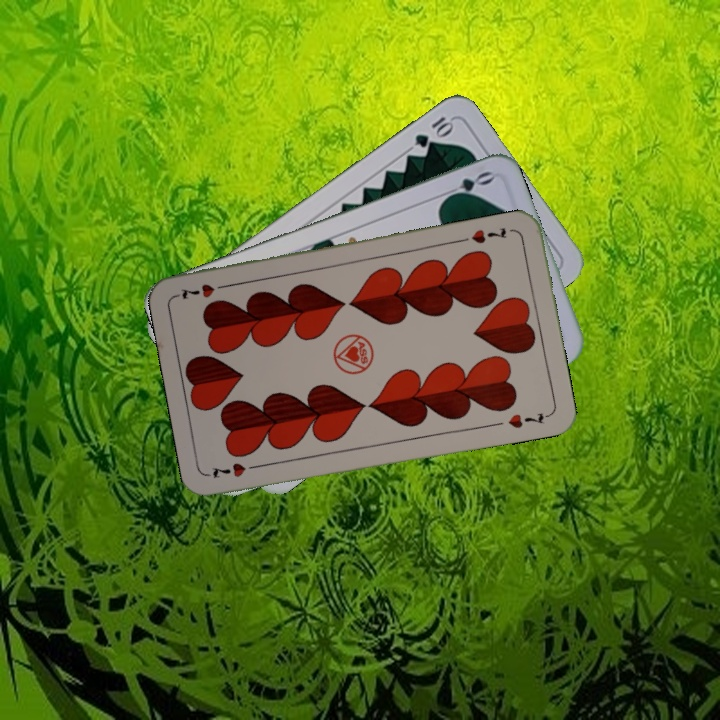G10: (410, 112, 456, 151)
GO: (438, 167, 496, 204)
H7: (208, 459, 265, 481), (467, 223, 510, 247)
